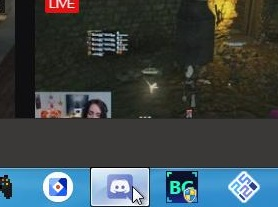cursor: (127, 182, 147, 206)
